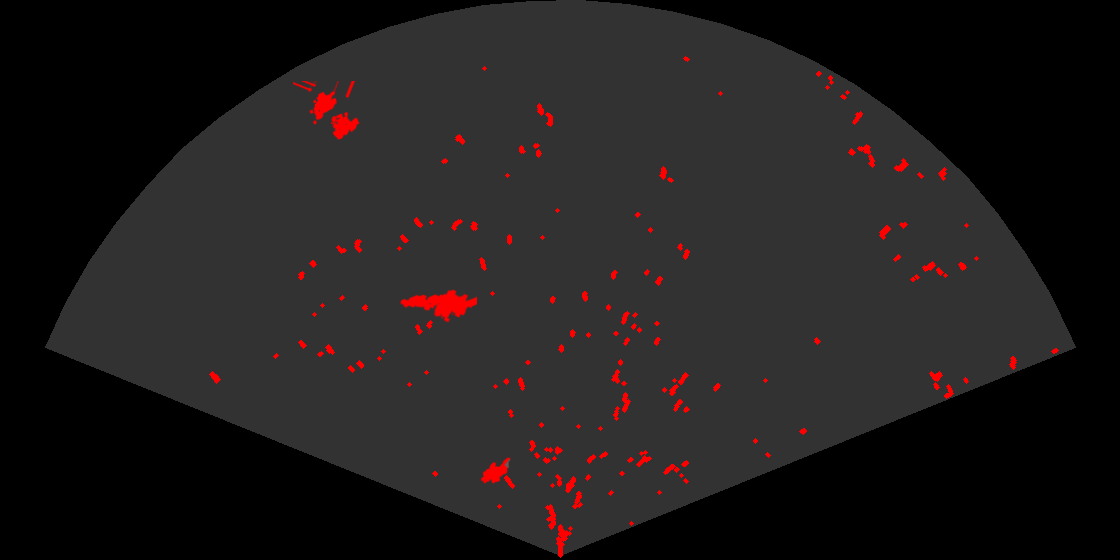AUV: (479, 456, 512, 485)
cage: (293, 81, 361, 141)
frogman: (398, 288, 477, 324)
